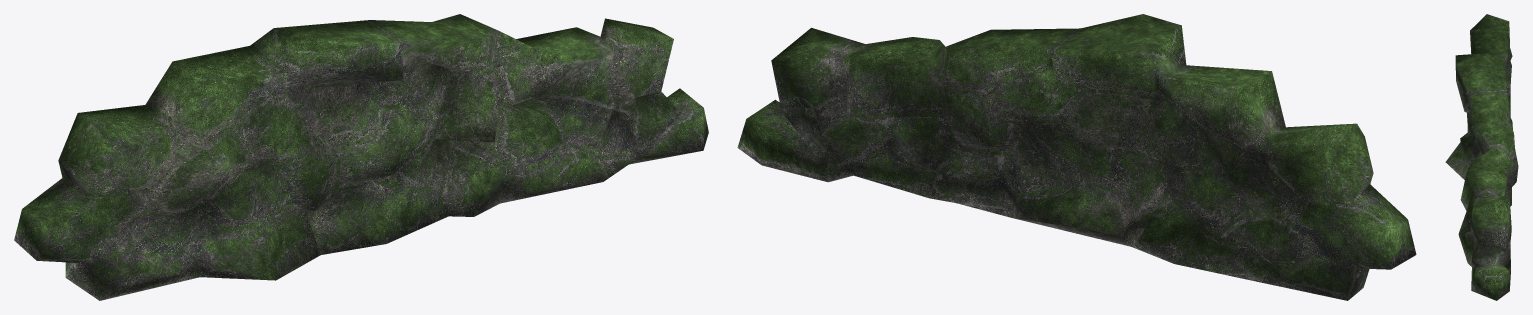
The model's file is stone_fence.fbx.
The picture shows the model from 3 angles, left to right: view 1: azimuth 30°, elevation 25°; view 2: azimuth 150°, elevation 25°; view 3: azimuth 270°, elevation 25°; orthographic projection. The views are drawn at different scales.
Visible parts, largest first — view 1: stone_fence; view 2: stone_fence; view 3: stone_fence.
Boxes of the visible parts, <box> form: stone_fence: <box>14,14,708,300</box>; stone_fence: <box>737,14,1416,300</box>; stone_fence: <box>1445,14,1518,300</box>.
Bounding box in the file's own units: 376 × 110 × 57.89.
Materials: 1 (1 with a texture image).
